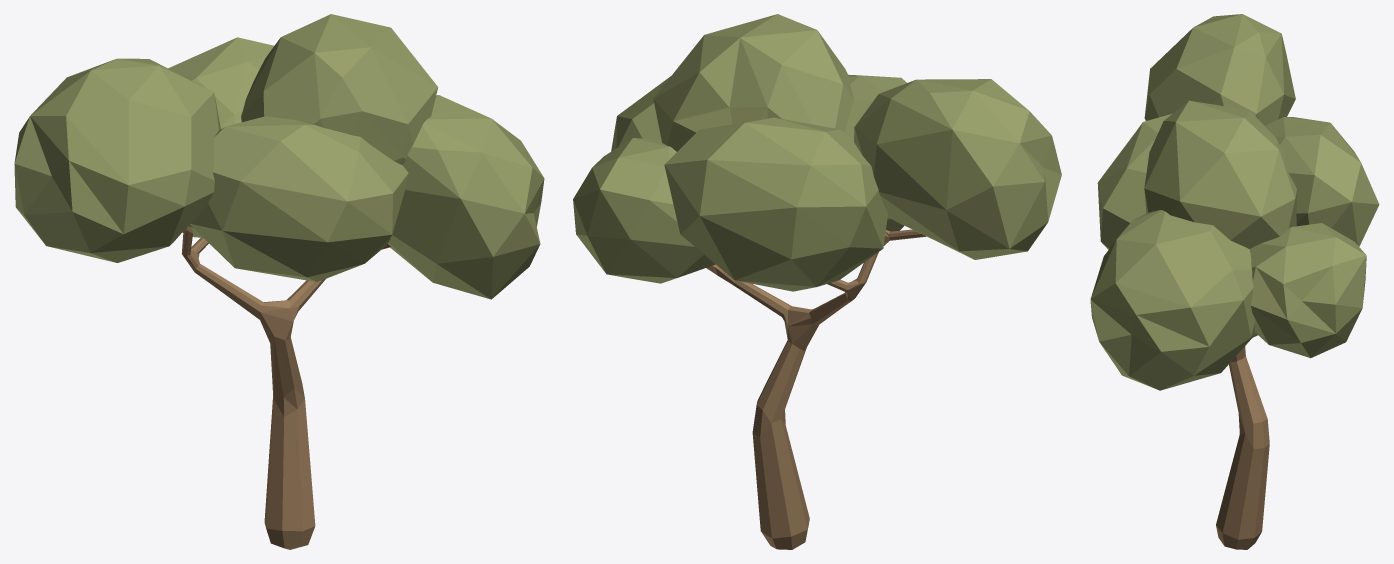
Rendered from tree4.fbx.
The picture shows the model from 3 angles, left to right: view 1: azimuth 30°, elevation 25°; view 2: azimuth 150°, elevation 25°; view 3: azimuth 270°, elevation 25°; orthographic projection. The views are drawn at different scales.
Parts seen in each view (by area): view 1: Sphere.019; view 2: Sphere.019; view 3: Sphere.019.
Boxes of the visible parts, box(x1,y1,x2,y2) form: Sphere.019: box(14, 14, 544, 549); Sphere.019: box(573, 14, 1061, 549); Sphere.019: box(1090, 14, 1379, 549).
Bounding box in the file's own units: 633 × 662 × 384.
Materials: 1 (1 with a texture image).
